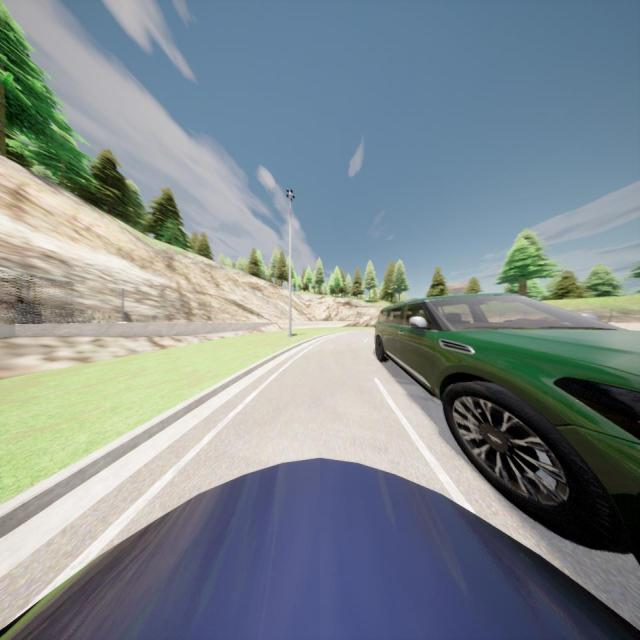Vehicle: (1, 456, 639, 640), (375, 294, 640, 562)
